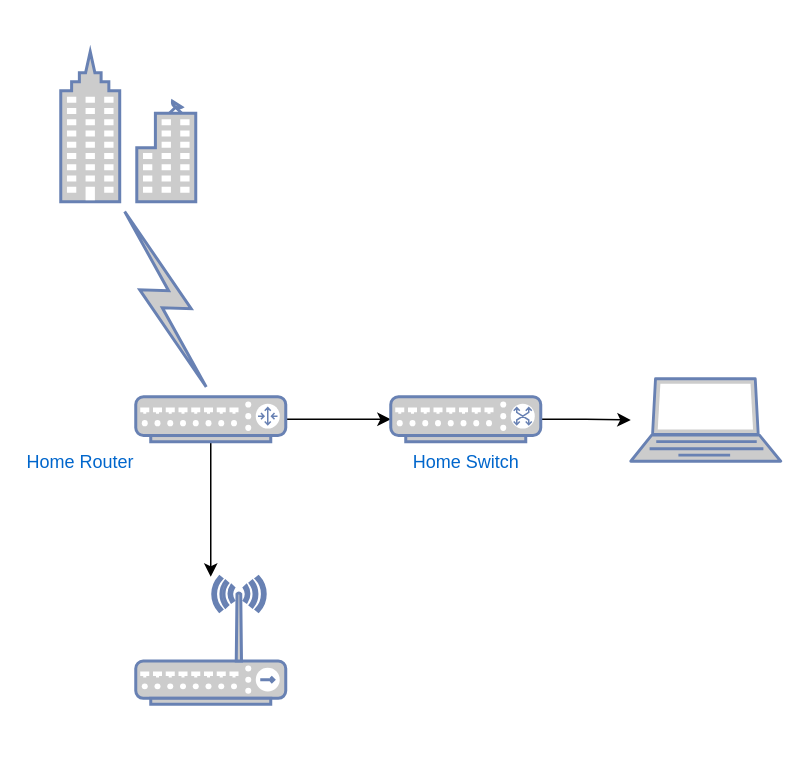
The diagram is 807 pixels wide and 761 high, and some of its shapes have lost their labels. The shapes that lost their labels are listed below. From the top down, each one's centre as x and y in pixels, then its label:
At point 127,126: "Internet Service Provider".
At point 210,639: "Home Wifi".
